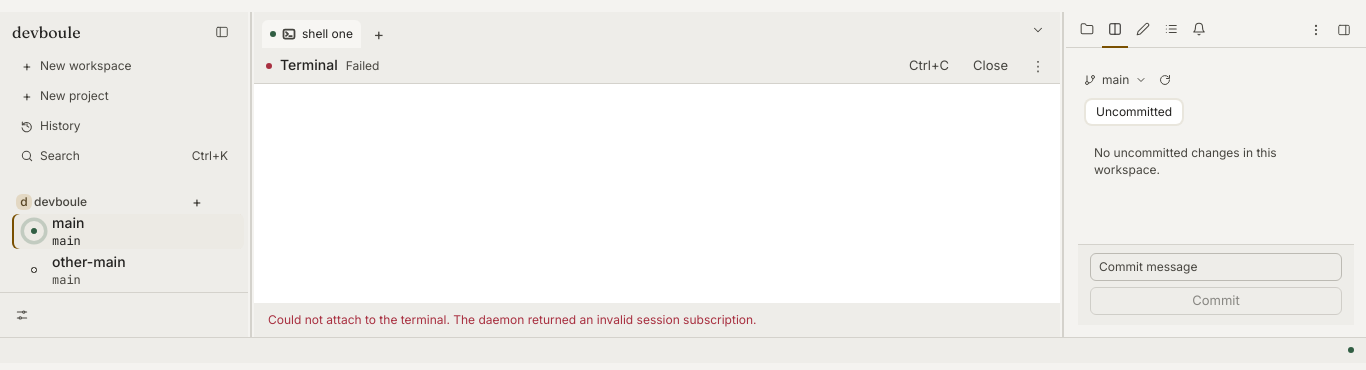
it: Workspace sessions › leaves the History page when the row already in force is clicked
What coordinates should you click on to do the following:
click the button with aria-label "History"
I would click on:
 (124, 126)
Its box is [12,112,236,140].
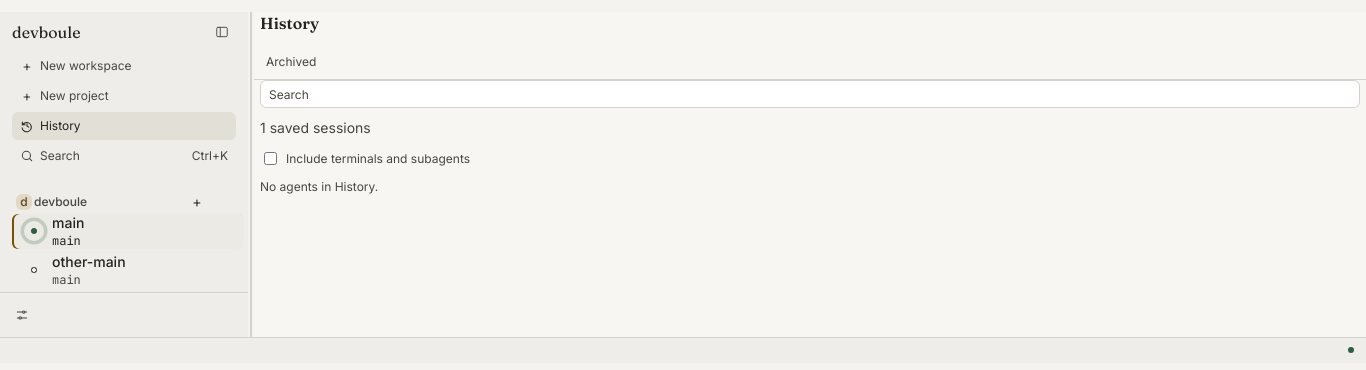
What coordinates should you click on to do the following:
click the button with class "workspace-row" showing "main main"
I would click on:
 (128, 231)
Its box is [12,214,244,249].
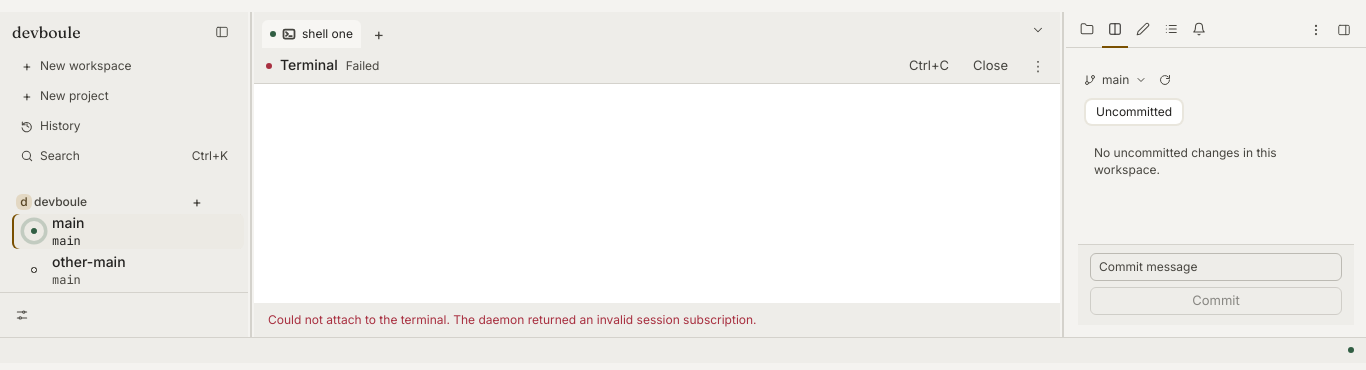
Expected: the checkbox with id "workspace-history-panel" is gone
Expected: the tab with id "workspace-session-tab-session-1" is shown, [262,20,361,48]
